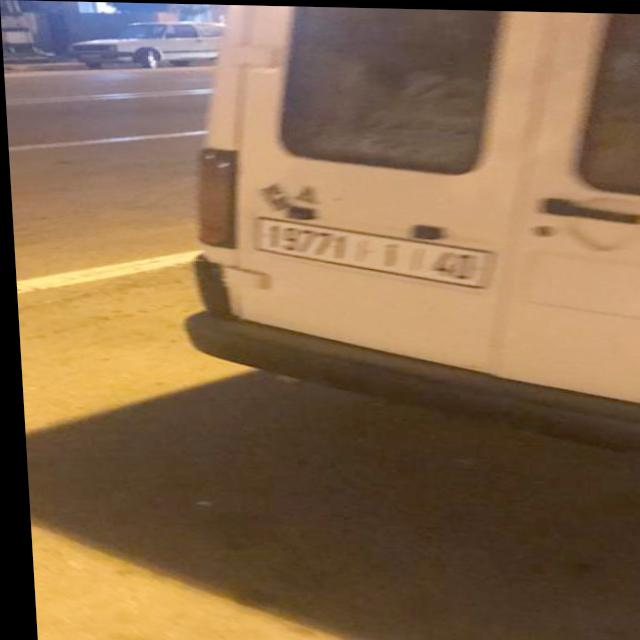License-Plate: (254, 218, 484, 285)
